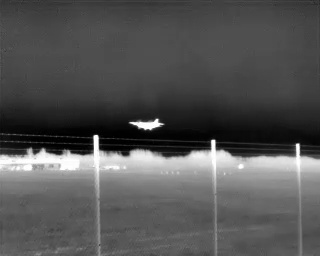AIRPLANE: (126, 115, 167, 133)
